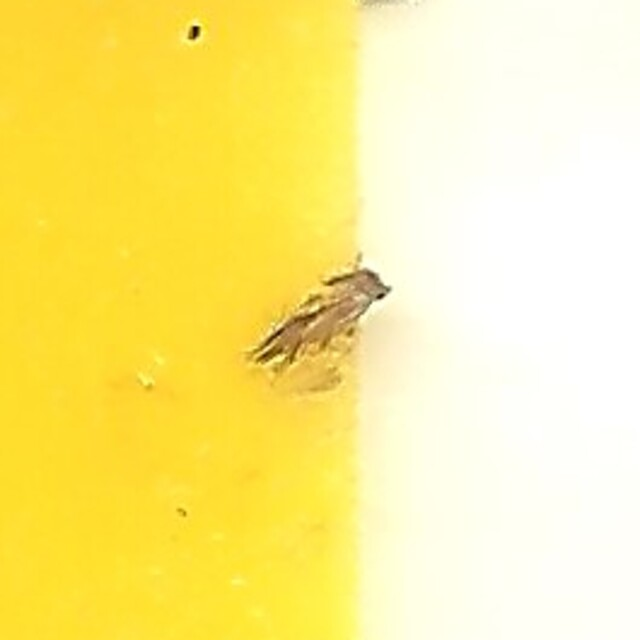Trichoptera: (242, 262, 398, 378)
